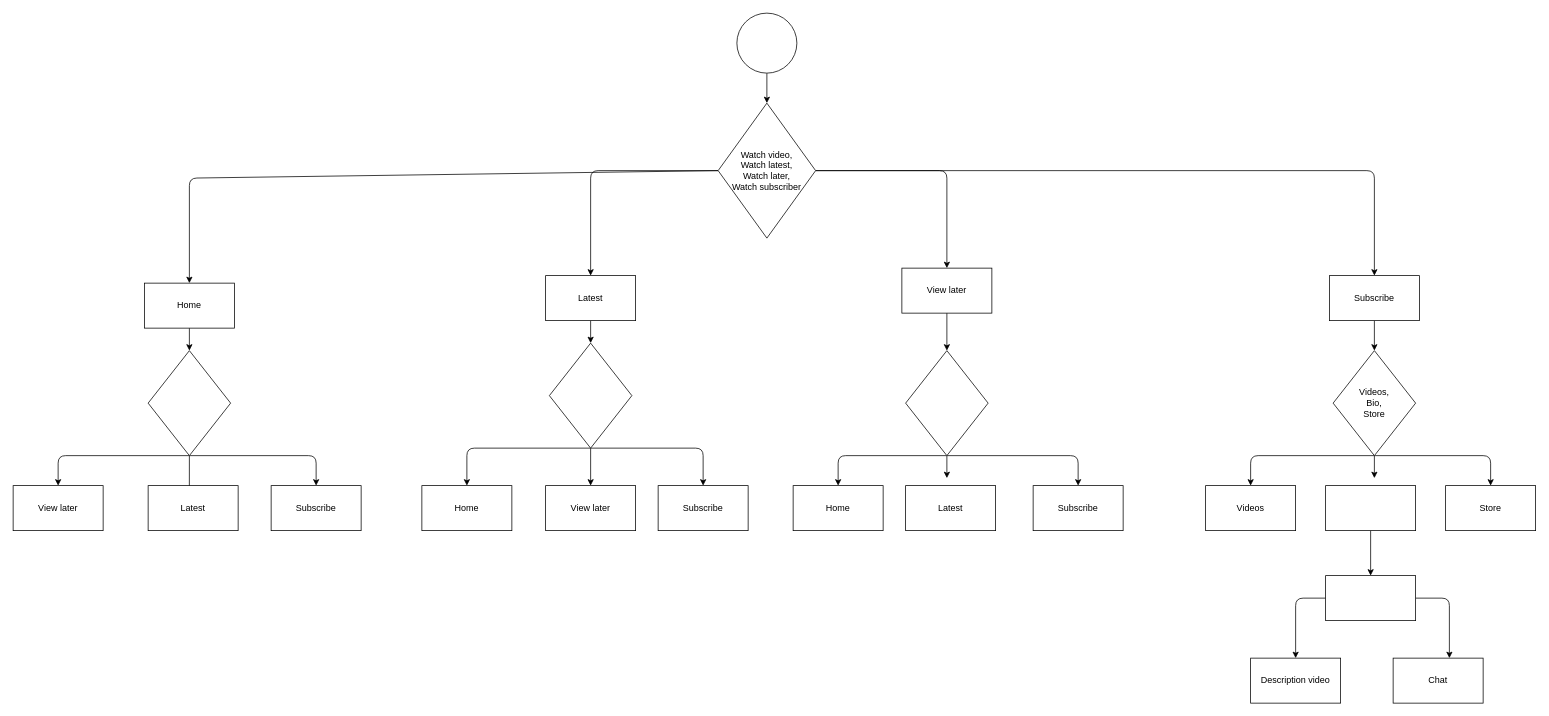
The diagram is 1549 pixels wide and 716 high, and some of its shapes have lost their labels. The shapes that lost their labels are listed below. From the top down, each one's centre as x and y in pixels, then its label:
the point at 766,42: Start
the point at 189,403: View later ? Latest?
the point at 590,395: Home ? View later ?
the point at 946,403: Home ? Latest ?
the point at 1370,508: Bio
the point at 1370,598: Videoplayer
